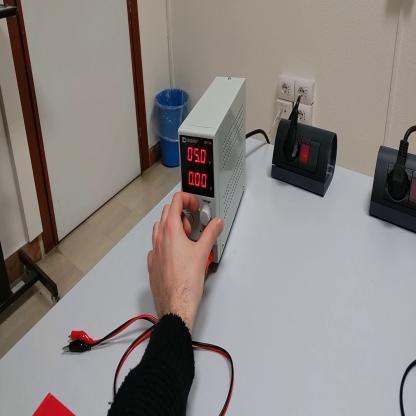hand: (150, 193, 223, 319)
power supply: (179, 77, 248, 265)
register: (33, 393, 72, 415)
socket: (270, 120, 339, 200), (366, 144, 416, 234)
